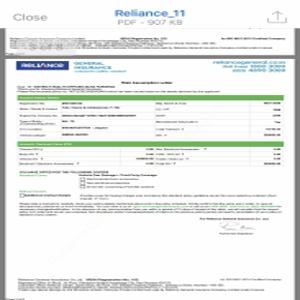image: (16, 59, 73, 70)
table: (16, 140, 286, 187), (18, 95, 284, 141)
text: (16, 200, 283, 220), (17, 274, 283, 293), (213, 59, 287, 73)
